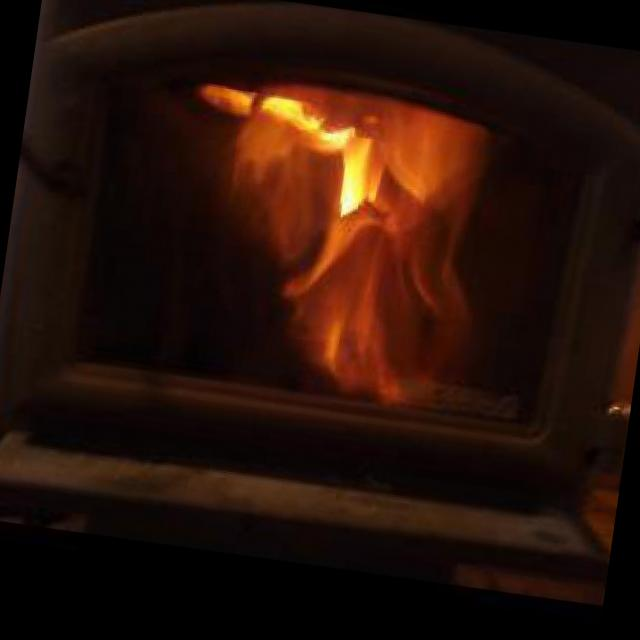fire: (171, 75, 474, 398)
